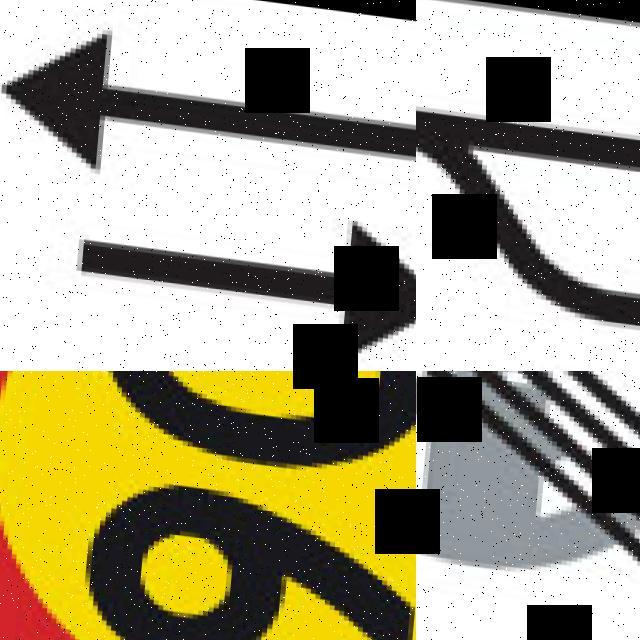111: (416, 371, 640, 640)
66: (0, 0, 416, 371)
71: (416, 0, 640, 371)
speed limit-90: (0, 371, 416, 640)
